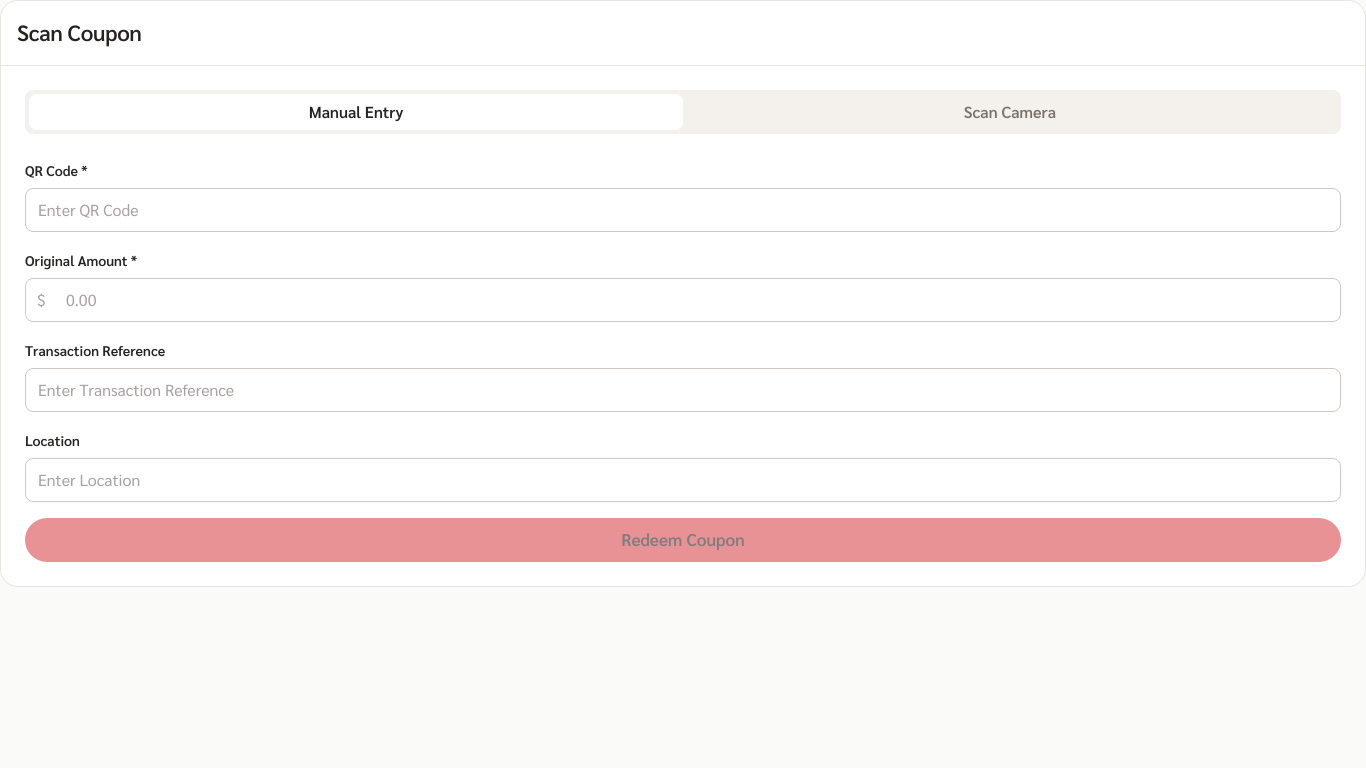
it: CouponScanner › Validation Result Display › should display invalid coupon message
Type "INVALID" into the field labelled "QR Code *" at x=683, y=210, box x1=25 y1=188 x2=1341 y2=232
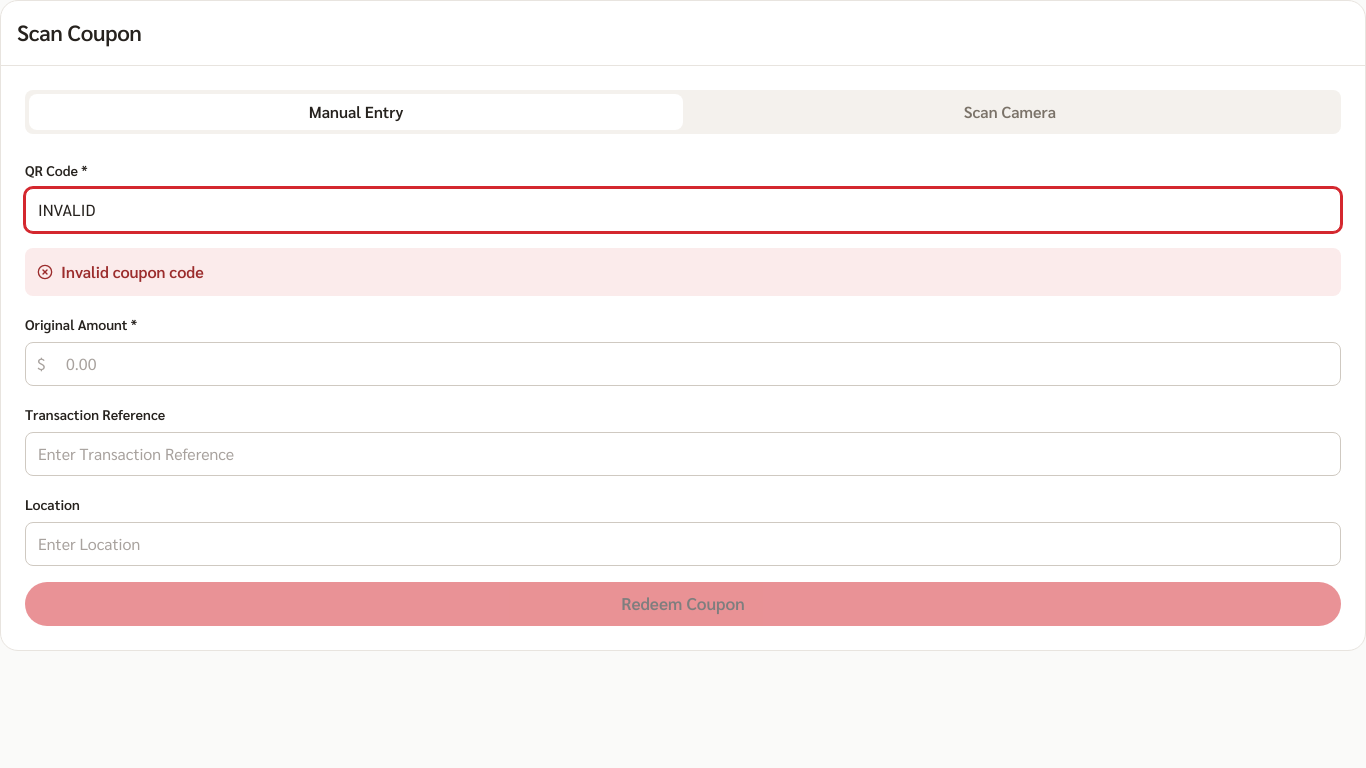
expect the text "Invalid coupon code" is shown: met, box x1=61 y1=260 x2=204 y2=284
